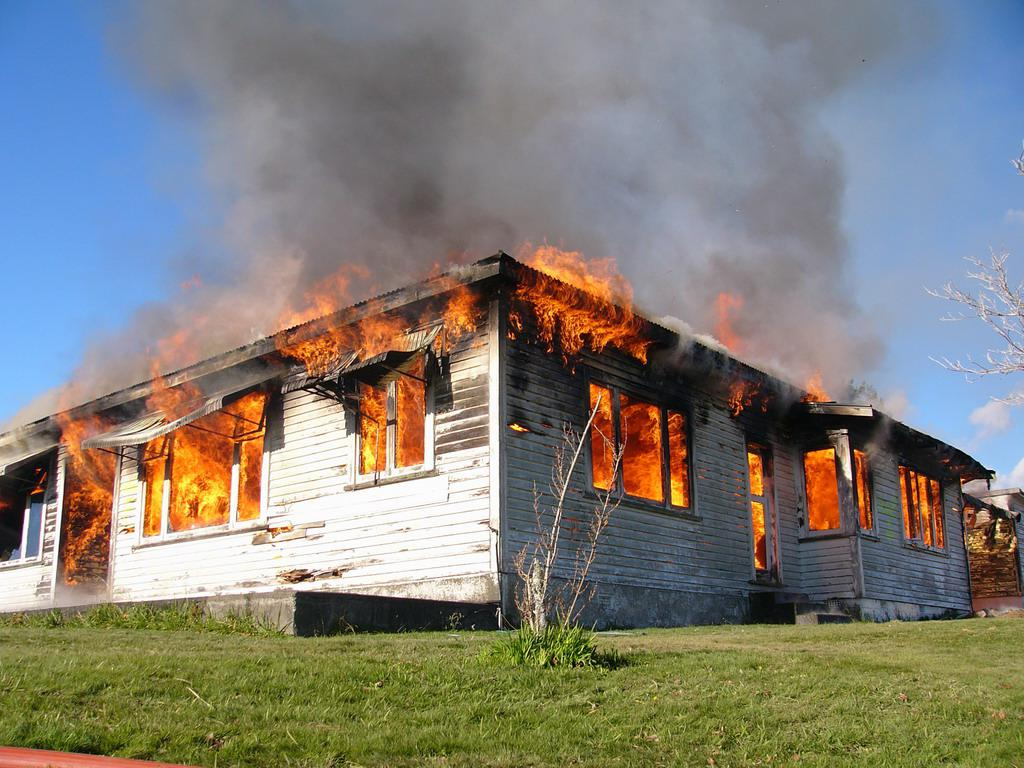fire: (265, 260, 482, 368), (143, 371, 273, 544), (518, 235, 653, 364), (591, 380, 697, 517), (52, 409, 121, 597), (352, 375, 445, 474), (895, 460, 967, 549), (703, 301, 771, 392), (746, 450, 785, 571), (795, 449, 845, 534)
